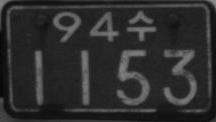1: (67, 50, 103, 106), (22, 50, 56, 104)
3: (162, 46, 198, 107)
4: (89, 11, 119, 42)
5: (115, 49, 150, 106)
9: (52, 10, 82, 42)
수: (127, 9, 155, 41)
